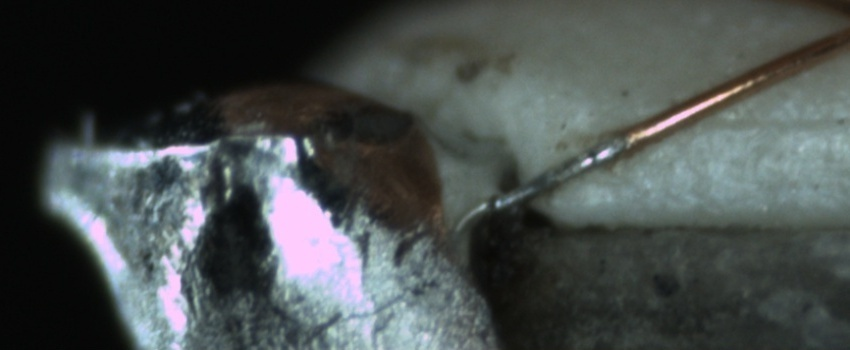DL: (695, 90, 849, 159)
TS: (481, 137, 628, 216)
TTCW: (475, 118, 668, 217)
